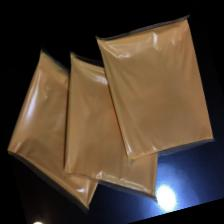cheese: (34, 34, 169, 219), (0, 40, 110, 224), (93, 14, 220, 163)
